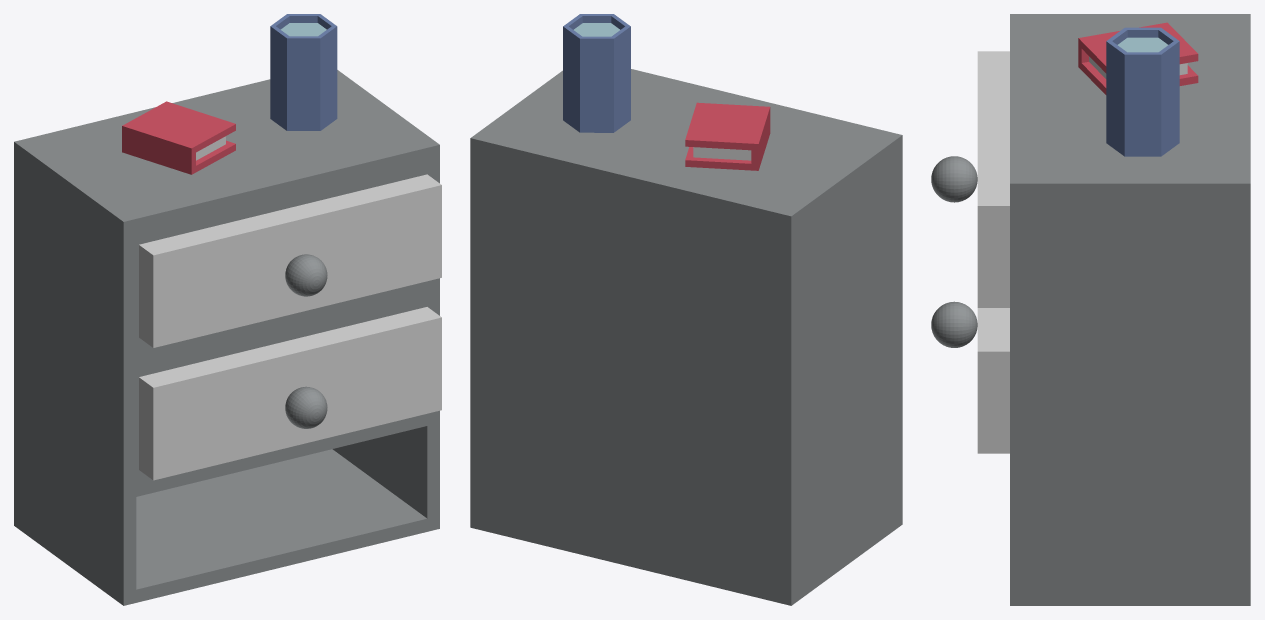
File: Project 149.glb
The picture shows the model from 3 angles, left to right: view 1: azimuth 30°, elevation 25°; view 2: azimuth 150°, elevation 25°; view 3: azimuth 270°, elevation 25°; orthographic projection. The views are drawn at different scales.
Visible parts, largest first — view 1: Mesh_Mesh_head_geo.001_lambert2SG.001; view 2: Mesh_Mesh_head_geo.001_lambert2SG.001; view 3: Mesh_Mesh_head_geo.001_lambert2SG.001.
Part boxes in pixels (box(x1,y1,x2,y2)): Mesh_Mesh_head_geo.001_lambert2SG.001: box(14, 14, 441, 605); Mesh_Mesh_head_geo.001_lambert2SG.001: box(470, 14, 902, 605); Mesh_Mesh_head_geo.001_lambert2SG.001: box(931, 14, 1250, 605).
Bounding box in the file's own units: 25 × 36 × 19.9.
